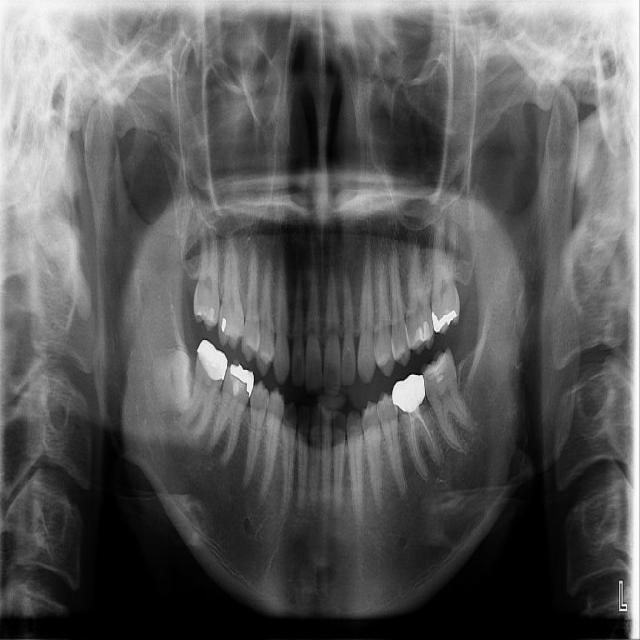Crown: (391, 373, 426, 414)
Filling: (196, 340, 227, 387), (222, 359, 254, 404), (424, 351, 453, 385), (341, 333, 356, 386), (291, 338, 306, 388), (407, 320, 434, 347), (432, 309, 457, 333), (193, 307, 216, 326), (217, 314, 233, 340)
Root Canal Treatment: (410, 414, 426, 476), (418, 413, 438, 457)
impacted tooth: (136, 353, 193, 413)
